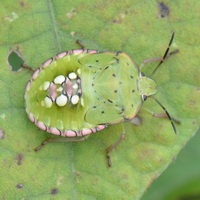insect: (25, 47, 156, 136)
